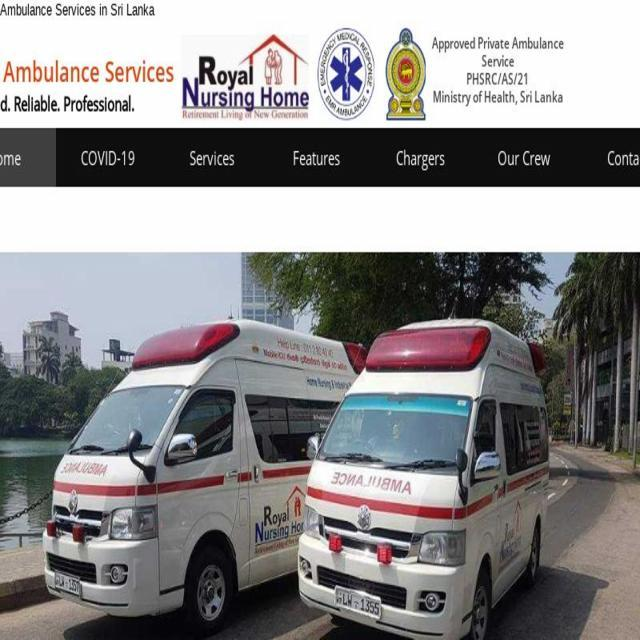emergency-vehicle: (36, 300, 296, 624), (306, 306, 564, 632)
